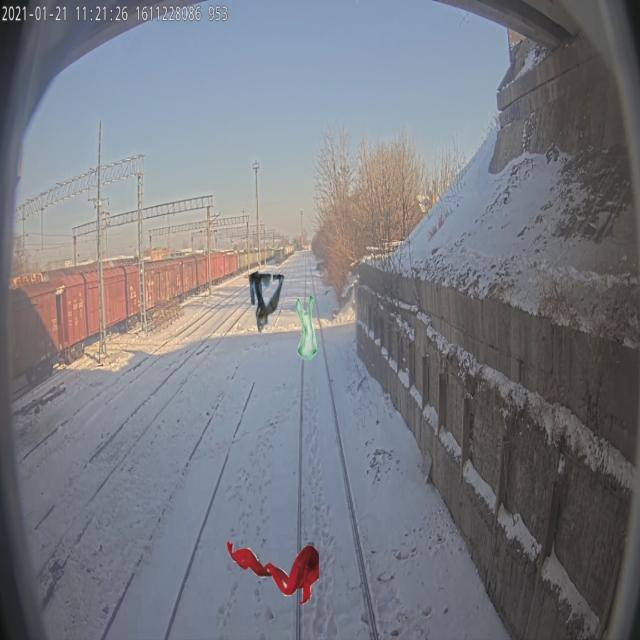floating object: (225, 540, 319, 604), (248, 270, 284, 334)
plastic bag: (295, 296, 317, 360)
